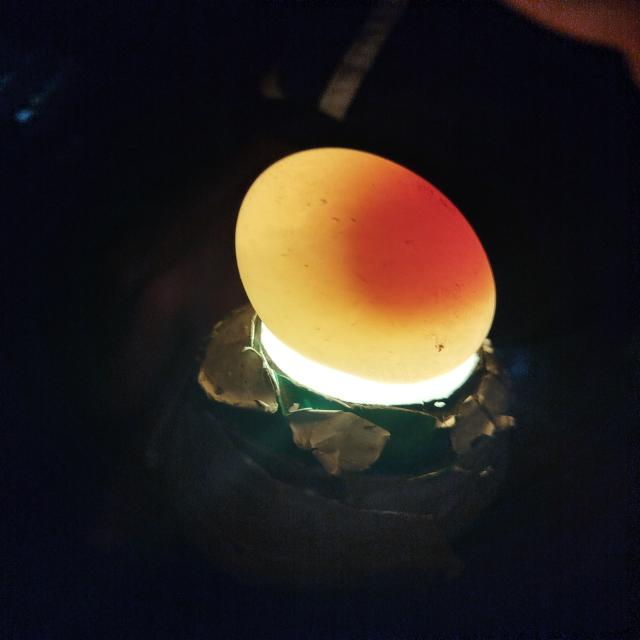Gema Quebrada: (349, 169, 490, 307)
